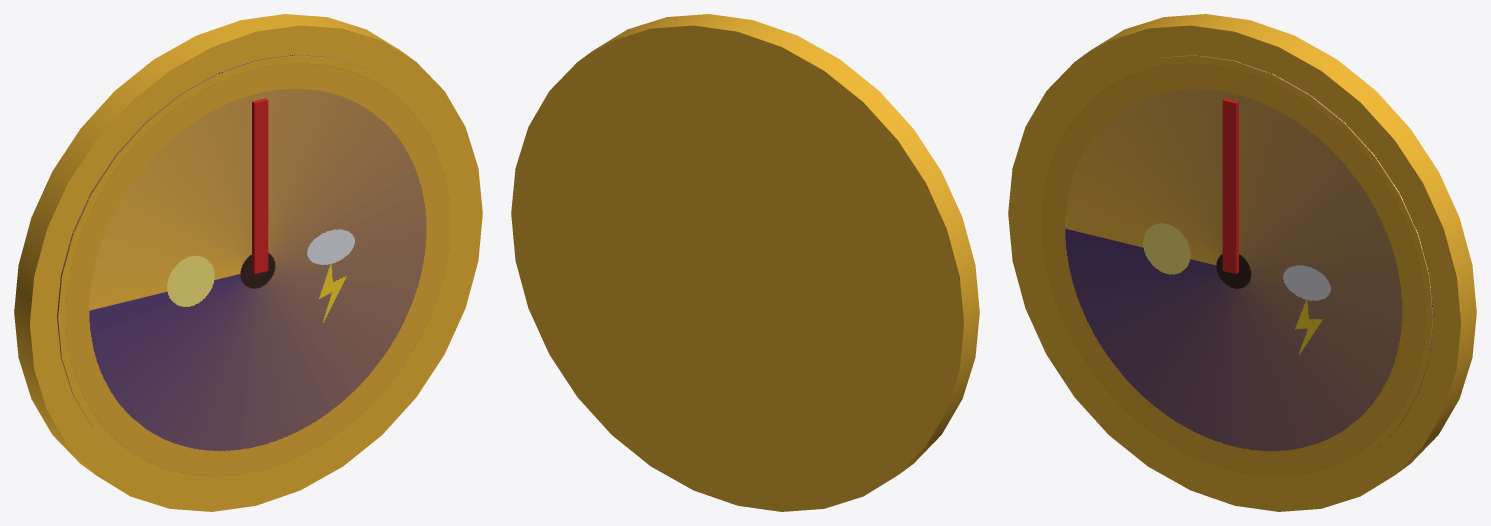
The model's file is mood_dial.glb.
3 views of the same model, side by side, from view 1: azimuth 30°, elevation 25°; view 2: azimuth 150°, elevation 25°; view 3: azimuth 330°, elevation 25° (orthographic).
Visible parts, largest first — view 1: mood_dial, needle; view 2: mood_dial; view 3: mood_dial, needle.
Boxes of the visible parts, x1,y1,x2,y2 form: mood_dial: (14, 14, 482, 511); needle: (252, 98, 268, 273); mood_dial: (511, 14, 979, 511); mood_dial: (1008, 14, 1476, 511); needle: (1222, 98, 1238, 273).
Bounding box in the file's own units: 1 × 1 × 0.08.
Materials: 3 (1 with a texture image).
